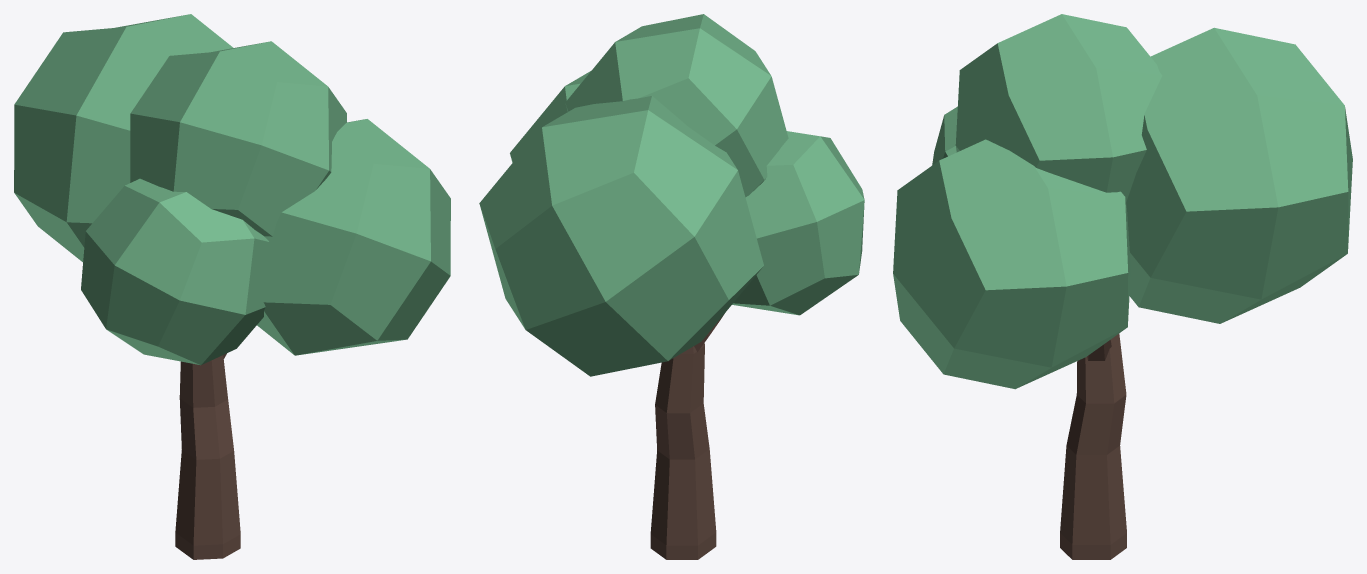
Rendered from Tree1.fbx.
3 views of the same model, side by side, from view 1: azimuth 30°, elevation 25°; view 2: azimuth 150°, elevation 25°; view 3: azimuth 270°, elevation 25° (orthographic). The views are drawn at different scales.
Visible parts, largest first — view 1: Cube.035; view 2: Cube.035; view 3: Cube.035.
Boxes of the visible parts, box(x1,y1,x2,y2) form: Cube.035: box(14, 14, 450, 559); Cube.035: box(479, 14, 864, 559); Cube.035: box(893, 14, 1352, 559).
Size of the model in its own units: 236 by 345 by 270.
